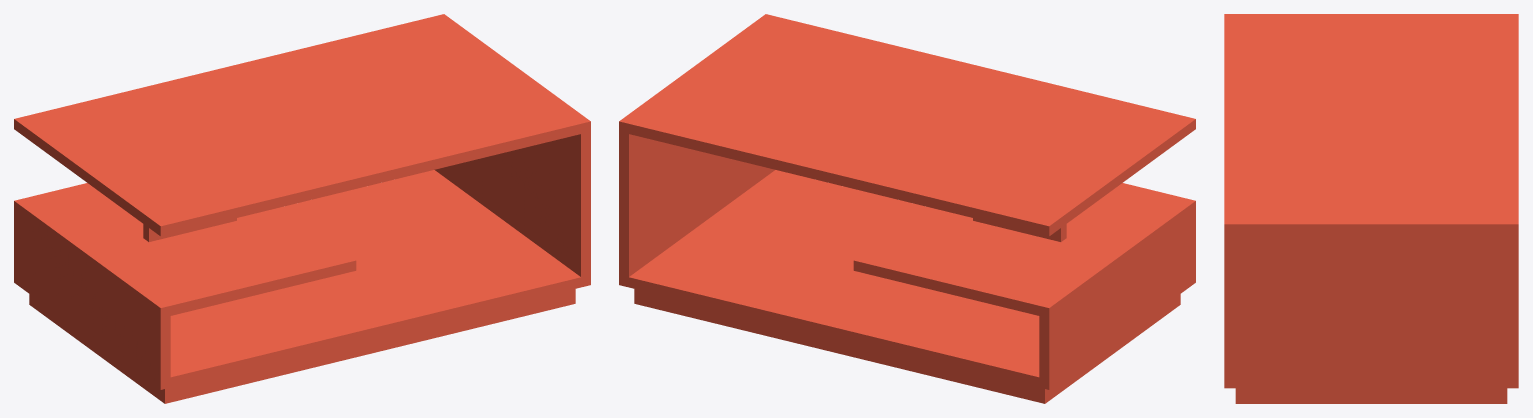
The model's file is tableLivingRoom.fbx.
3 renders of one model, left to right at view 1: azimuth 30°, elevation 25°; view 2: azimuth 150°, elevation 25°; view 3: azimuth 270°, elevation 25°, orthographic.
Parts seen in each view (by area): view 1: Group1; view 2: Group1; view 3: Group1.
Boxes of the visible parts, box(x1,y1,x2,y2) form: Group1: box(14, 14, 590, 403); Group1: box(619, 14, 1195, 403); Group1: box(1224, 14, 1518, 403).
Bounding box in the file's own units: 1.12 × 0.4572 × 0.6604.
